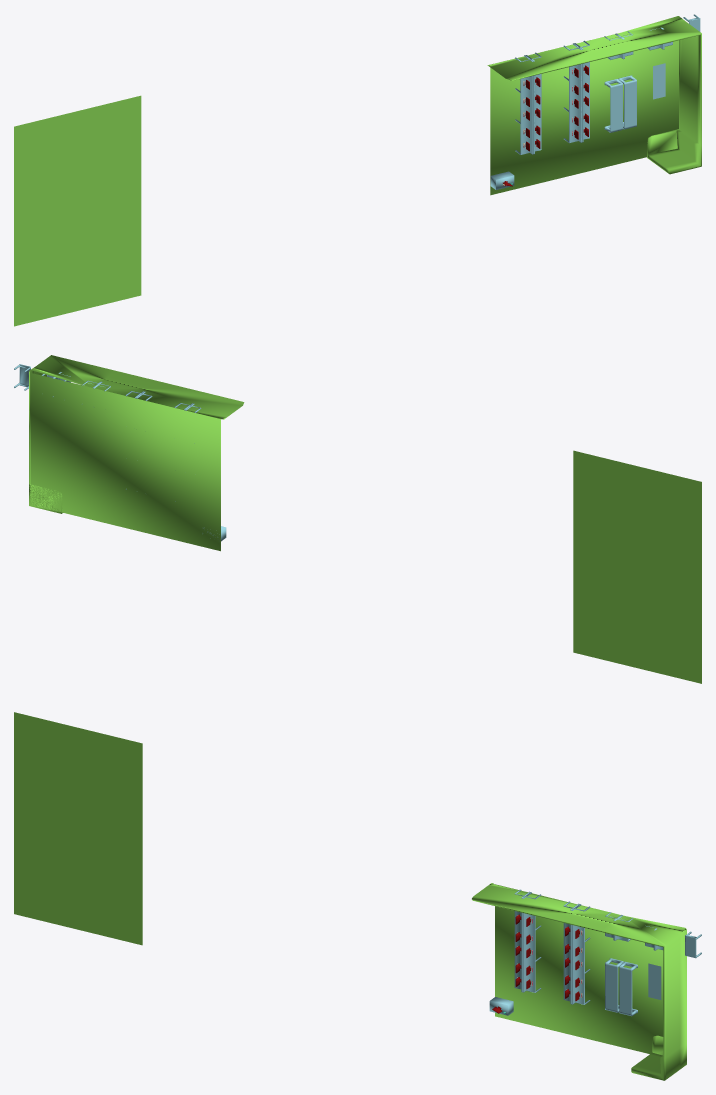
The model's file is room.obj.
The picture shows the model from 3 angles, top to bottom: view 1: azimuth 30°, elevation 25°; view 2: azimuth 150°, elevation 25°; view 3: azimuth 330°, elevation 25°; orthographic projection.
Visible parts, largest first — view 1: Plane002, Plane001, Object001, Plane025, Plane020, Plane023, Plane009, Plane024, Plane003; view 2: Plane002, Plane001, Object001; view 3: Plane002, Plane001, Object001, Plane003, Plane024, Plane009, Plane023, Plane020, Plane025.
Boxes of the visible parts, left/top/right/bottom form: Plane002: left=14, top=95, right=141, bottom=326; Plane001: left=490, top=33, right=678, bottom=195; Object001: left=487, top=16, right=701, bottom=174; Plane025: left=515, top=55, right=533, bottom=154; Plane020: left=563, top=43, right=581, bottom=143; Plane023: left=604, top=79, right=622, bottom=132; Plane009: left=618, top=75, right=636, bottom=129; Plane024: left=525, top=52, right=541, bottom=154; Plane003: left=574, top=40, right=589, bottom=142; Plane002: left=573, top=450, right=701, bottom=683; Plane001: left=30, top=372, right=220, bottom=551; Object001: left=29, top=355, right=244, bottom=513; Plane002: left=14, top=712, right=142, bottom=945; Plane001: left=495, top=884, right=663, bottom=1053; Object001: left=472, top=883, right=686, bottom=1080; Plane003: left=571, top=904, right=590, bottom=1004; Plane024: left=522, top=892, right=541, bottom=992; Plane009: left=619, top=961, right=637, bottom=1016; Plane023: left=605, top=958, right=623, bottom=1012; Plane020: left=563, top=901, right=579, bottom=1004; Plane025: left=514, top=889, right=530, bottom=992.
Bounding box in the file's own units: 2105 × 591 × 118.
